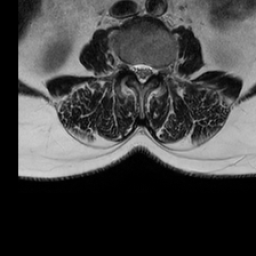CCS_normal: (139, 55, 146, 92)
LFS_stenosis: (154, 56, 163, 82)
LLS_normal: (146, 54, 154, 83)
RFS_stenosis: (123, 52, 131, 76)
RLS_normal: (131, 54, 139, 83)
